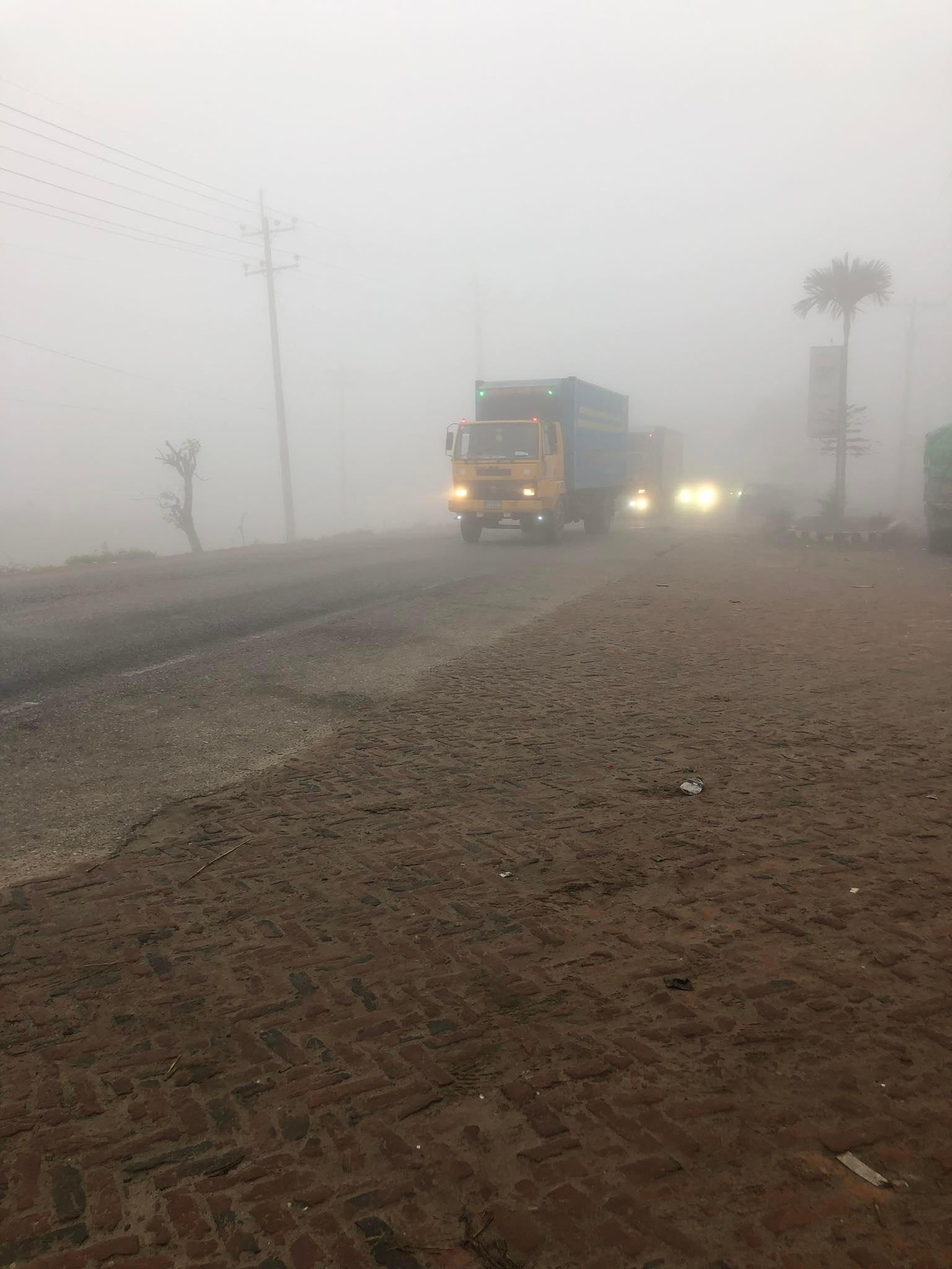Truck: (444, 361, 634, 539), (631, 409, 694, 535)
